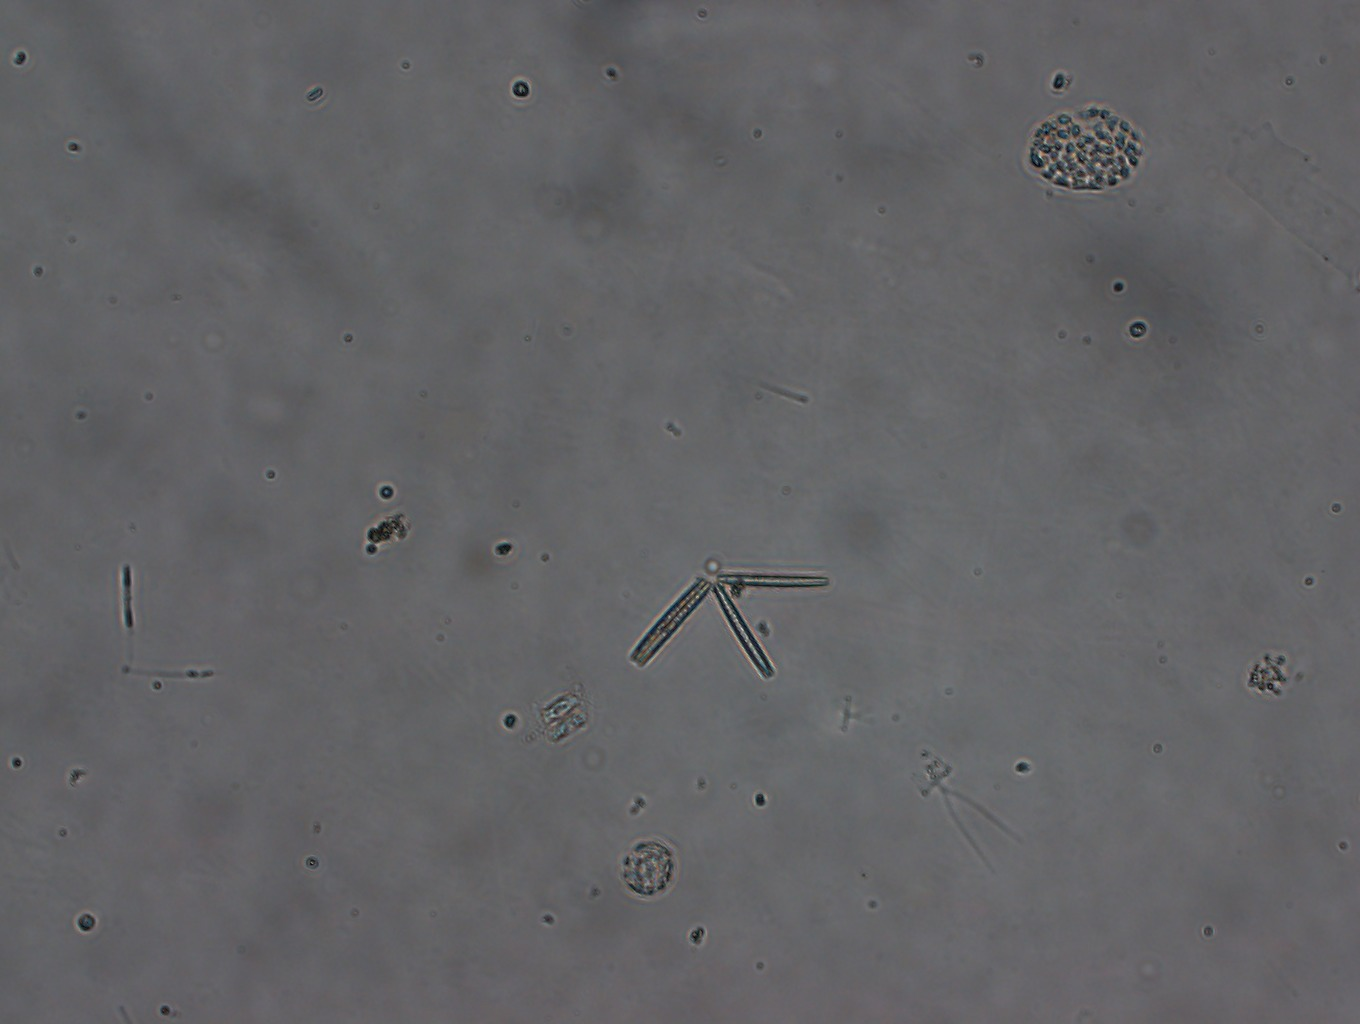thalassionema nitzschioides: (628, 569, 828, 680)
